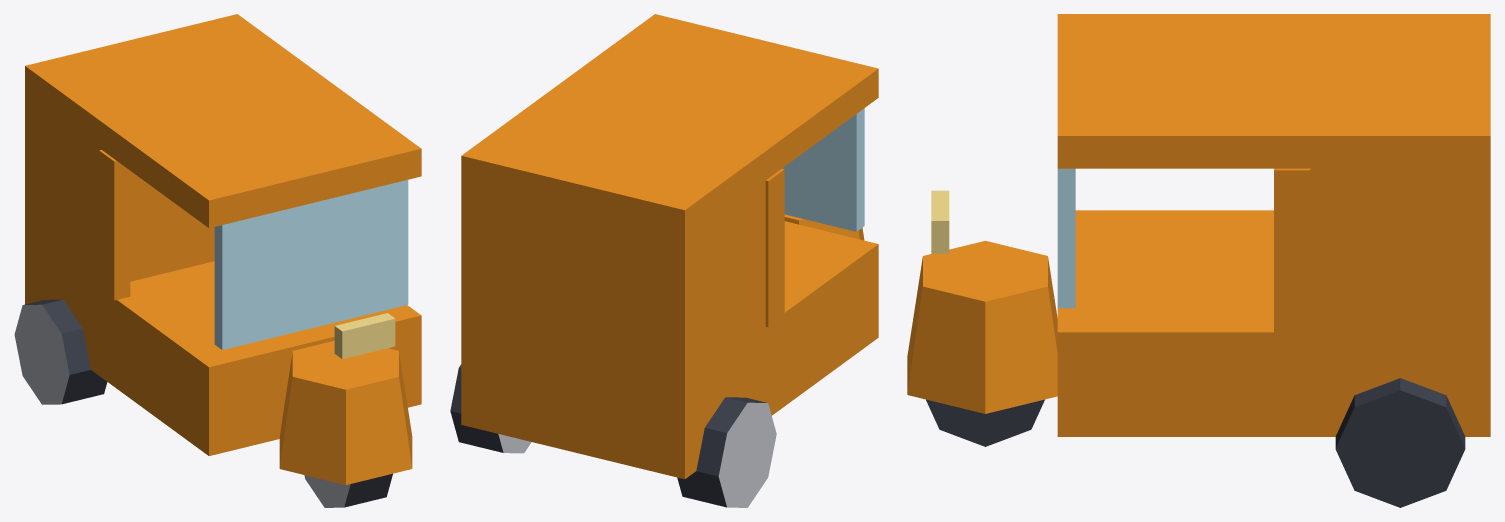
File: vehicle_bajaj.glb
3 renders of one model, left to right at view 1: azimuth 30°, elevation 25°; view 2: azimuth 150°, elevation 25°; view 3: azimuth 270°, elevation 25°, orthographic. The views are drawn at different scales.
Parts seen in each view (by area): view 1: vehicle_bajaj; view 2: vehicle_bajaj; view 3: vehicle_bajaj.
Part boxes in pixels (bbox=[...]): vehicle_bajaj: bbox=[14, 14, 421, 507]; vehicle_bajaj: bbox=[450, 14, 878, 507]; vehicle_bajaj: bbox=[907, 14, 1490, 507].
Bounding box in the file's own units: 0.096 × 0.11 × 0.1617.
